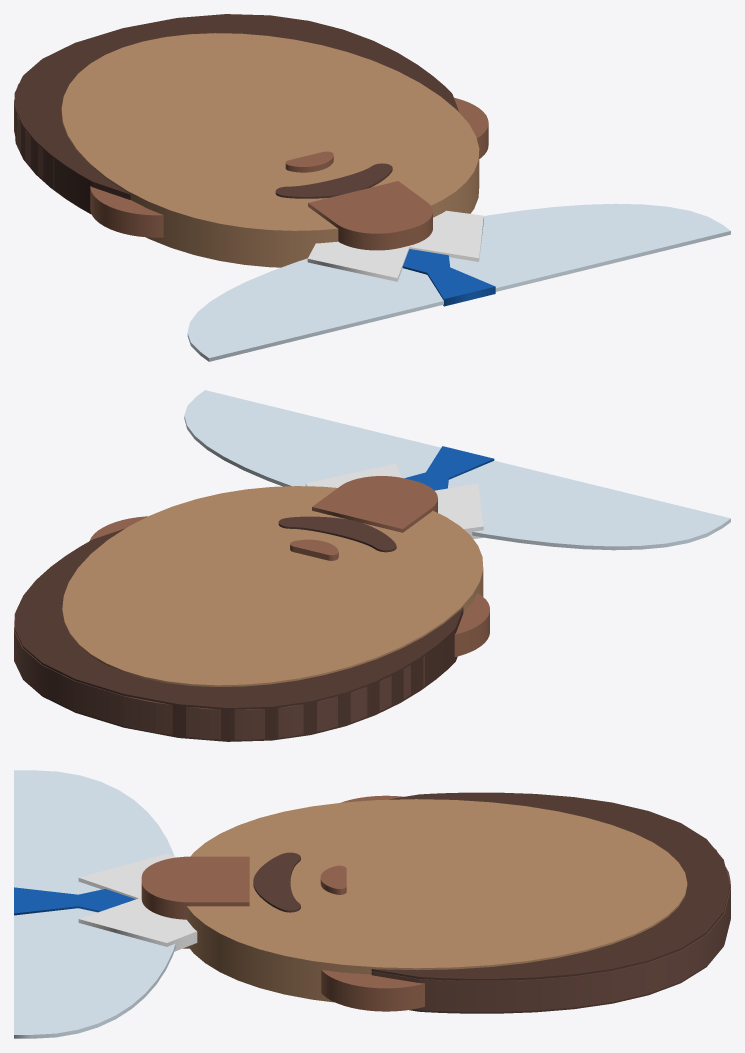
Rendered from emoji_u1f468_1f3fd_200d_1f4bc.glb.
3 renders of one model, top to bottom at view 1: azimuth 30°, elevation 25°; view 2: azimuth 150°, elevation 25°; view 3: azimuth 270°, elevation 25°, orthographic. The views are drawn at different scales.
Visible parts, largest first — view 1: emoji_u1f468_1f3fd_200d_1f4bc; view 2: emoji_u1f468_1f3fd_200d_1f4bc; view 3: emoji_u1f468_1f3fd_200d_1f4bc.
Boxes of the visible parts, box(x1,y1,x2,y2) form: emoji_u1f468_1f3fd_200d_1f4bc: box(14, 14, 730, 361); emoji_u1f468_1f3fd_200d_1f4bc: box(14, 390, 730, 741); emoji_u1f468_1f3fd_200d_1f4bc: box(14, 770, 730, 1038).
Size of the model in its own units: 0.0294 by 0.0026 by 0.0336.
